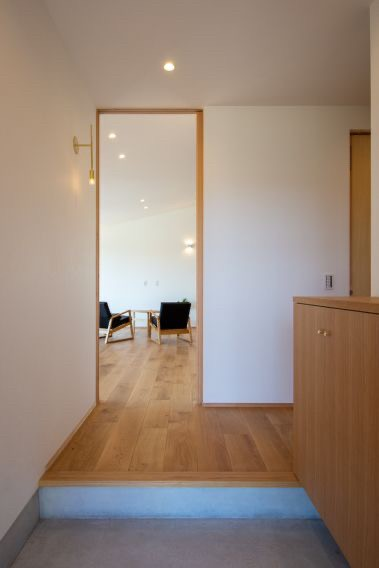floor: (10, 518, 351, 567)
